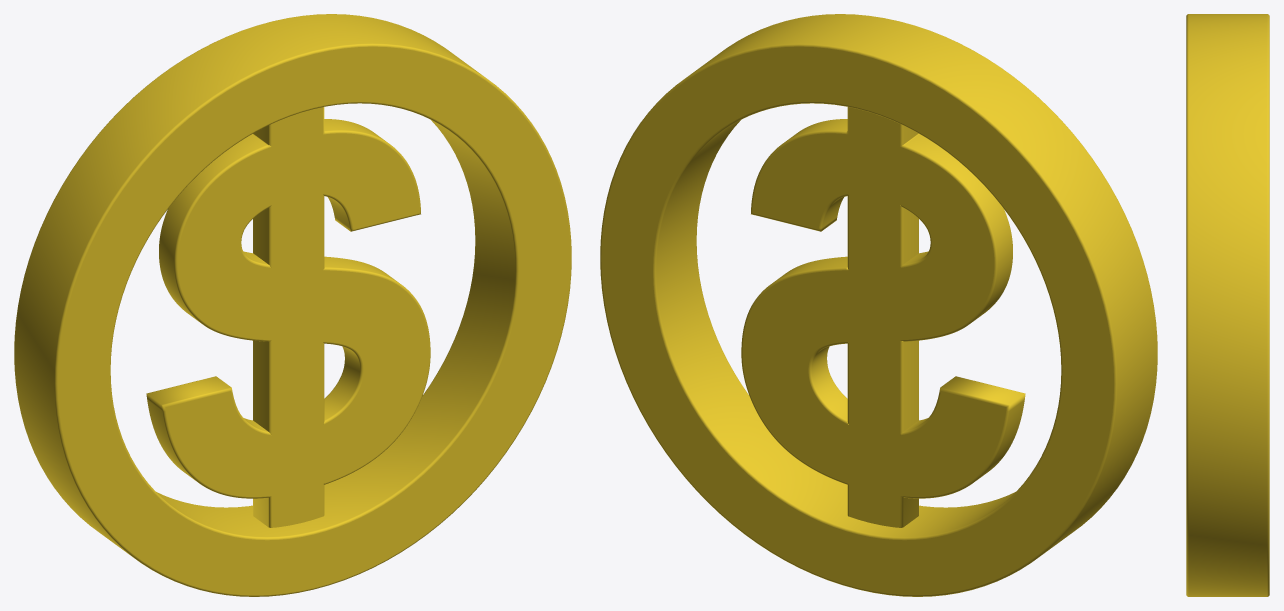
File: grafiii-gold-5192.glb
3 views of the same model, side by side, from view 1: azimuth 30°, elevation 25°; view 2: azimuth 150°, elevation 25°; view 3: azimuth 270°, elevation 25° (orthographic). The views are drawn at different scales.
Visible parts, largest first — view 1: Curve.001, Curve; view 2: Curve.001, Curve; view 3: Curve.001.
Boxes of the visible parts, box(x1,y1,x2,y2) form: Curve.001: box(14, 14, 571, 596); Curve: box(146, 107, 430, 527); Curve.001: box(600, 14, 1157, 596); Curve: box(741, 107, 1025, 527); Curve.001: box(1186, 14, 1269, 596).
Bounding box in the file's own units: 1.92 × 1.91 × 0.2733.
